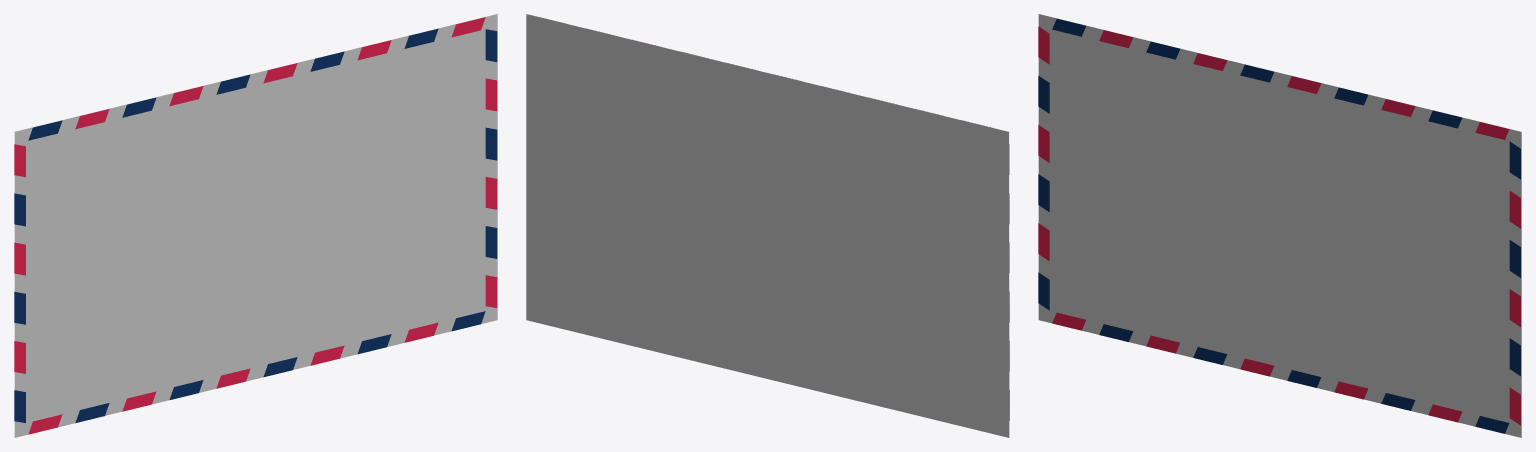
File: envelope.glb
3 views of the same model, side by side, from view 1: azimuth 30°, elevation 25°; view 2: azimuth 150°, elevation 25°; view 3: azimuth 330°, elevation 25° (orthographic).
Parts seen in each view (by area): view 1: Curve, Curve.033; view 2: Curve; view 3: Curve, Curve.033.
Part boxes in pixels (x1=…): Curve: x1=14, y1=14, x2=497, y2=437; Curve.033: x1=14, y1=17, x2=497, y2=434; Curve: x1=526, y1=14, x2=1009, y2=437; Curve: x1=1038, y1=14, x2=1521, y2=437; Curve.033: x1=1038, y1=18, x2=1520, y2=433.
Size of the model in its own units: 3.19 by 1.93 by 0.003.
